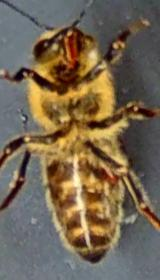varroa_mite: (94, 161, 124, 186)
